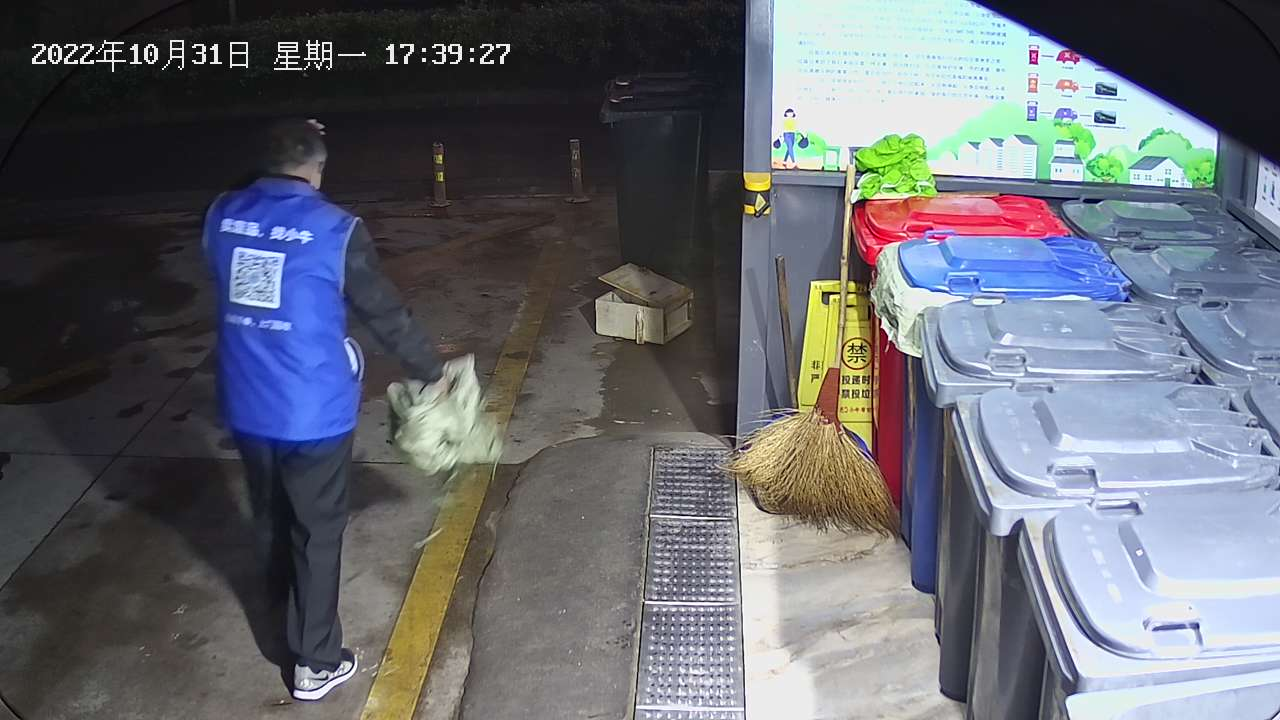garbage: (590, 259, 697, 346)
suliaozhipin: (382, 351, 509, 475)
worker: (197, 113, 448, 706)
